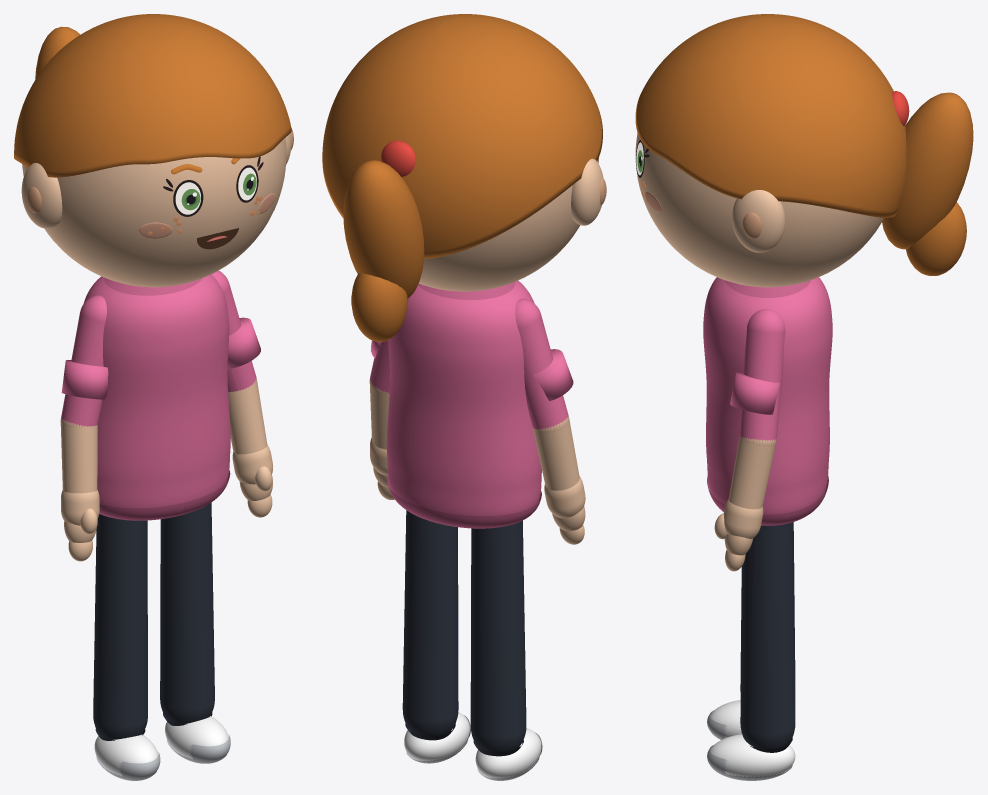
File: figurant_c.glb
The picture shows the model from 3 angles, left to right: view 1: azimuth 30°, elevation 25°; view 2: azimuth 150°, elevation 25°; view 3: azimuth 270°, elevation 25°; orthographic projection.
Visible parts, largest first — view 1: figurant_c_haar, figurant_c_romp, figurant_c_hoofd, figurant_c_been_R, figurant_c_been_L, figurant_c_bovenarm_R, figurant_c_onderarm_R, figurant_c_onderarm_L, figurant_c_oor_R, figurant_c_schoen_R, figurant_c_schoen_L, figurant_c_romp_boord (+10 smaller); view 2: figurant_c_haar, figurant_c_romp, figurant_c_been_R, figurant_c_been_L, figurant_c_staart, figurant_c_hoofd, figurant_c_bovenarm_R, figurant_c_staart_punt, figurant_c_onderarm_R, figurant_c_romp_boord, figurant_c_schoen_R, figurant_c_oor_R (+7 smaller); view 3: figurant_c_haar, figurant_c_romp, figurant_c_hoofd, figurant_c_been_L, figurant_c_staart, figurant_c_bovenarm_L, figurant_c_staart_punt, figurant_c_onderarm_L, figurant_c_oor_L, figurant_c_schoen_L, figurant_c_mouwzoom_L, figurant_c_manchet_L (+3 smaller).
Boxes of the visible parts, <box> form: figurant_c_haar: <box>14,14,291,177</box>; figurant_c_romp: <box>83,274,230,508</box>; figurant_c_hoofd: <box>22,138,286,287</box>; figurant_c_been_R: <box>93,514,147,739</box>; figurant_c_been_L: <box>160,502,214,724</box>; figurant_c_bovenarm_R: <box>61,295,106,426</box>; figurant_c_onderarm_R: <box>60,421,97,493</box>; figurant_c_onderarm_L: <box>228,380,267,454</box>; figurant_c_oor_R: <box>21,163,62,228</box>; figurant_c_schoen_R: <box>94,734,158,776</box>; figurant_c_schoen_L: <box>165,716,228,759</box>; figurant_c_romp_boord: <box>99,470,230,520</box>; figurant_c_haar: <box>322,14,602,259</box>; figurant_c_romp: <box>386,280,541,515</box>; figurant_c_been_R: <box>470,520,526,751</box>; figurant_c_been_L: <box>402,510,458,735</box>; figurant_c_staart: <box>343,160,424,299</box>; figurant_c_hoofd: <box>418,158,598,291</box>; figurant_c_bovenarm_R: <box>515,298,568,432</box>; figurant_c_staart_punt: <box>351,273,407,341</box>; figurant_c_onderarm_R: <box>532,419,579,490</box>; figurant_c_romp_boord: <box>387,477,541,528</box>; figurant_c_schoen_R: <box>475,728,541,778</box>; figurant_c_oor_R: <box>571,158,603,225</box>; figurant_c_haar: <box>635,14,906,217</box>; figurant_c_romp: <box>703,277,832,514</box>; figurant_c_hoofd: <box>635,133,883,287</box>; figurant_c_been_L: <box>740,522,795,748</box>; figurant_c_staart: <box>882,92,973,249</box>; figurant_c_bovenarm_L: <box>739,309,785,446</box>; figurant_c_staart_punt: <box>906,202,966,275</box>; figurant_c_onderarm_L: <box>728,436,776,509</box>; figurant_c_oor_L: <box>732,190,785,252</box>; figurant_c_schoen_L: <box>709,734,795,776</box>; figurant_c_mouwzoom_L: <box>730,372,780,414</box>; figurant_c_manchet_L: <box>723,499,763,538</box>.
Bounding box in the file's own units: 0.6611 × 1.76 × 0.7349.
